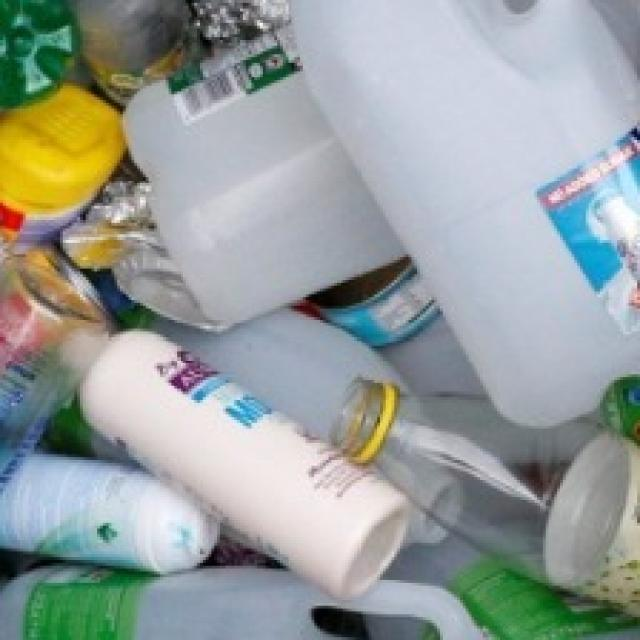metel: (1, 445, 210, 580)
plastic_bottle: (290, 1, 640, 383), (136, 300, 425, 603), (327, 370, 640, 640)
